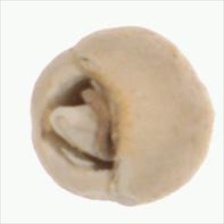L3: (42, 64, 118, 175)
L4: (30, 24, 213, 207)
